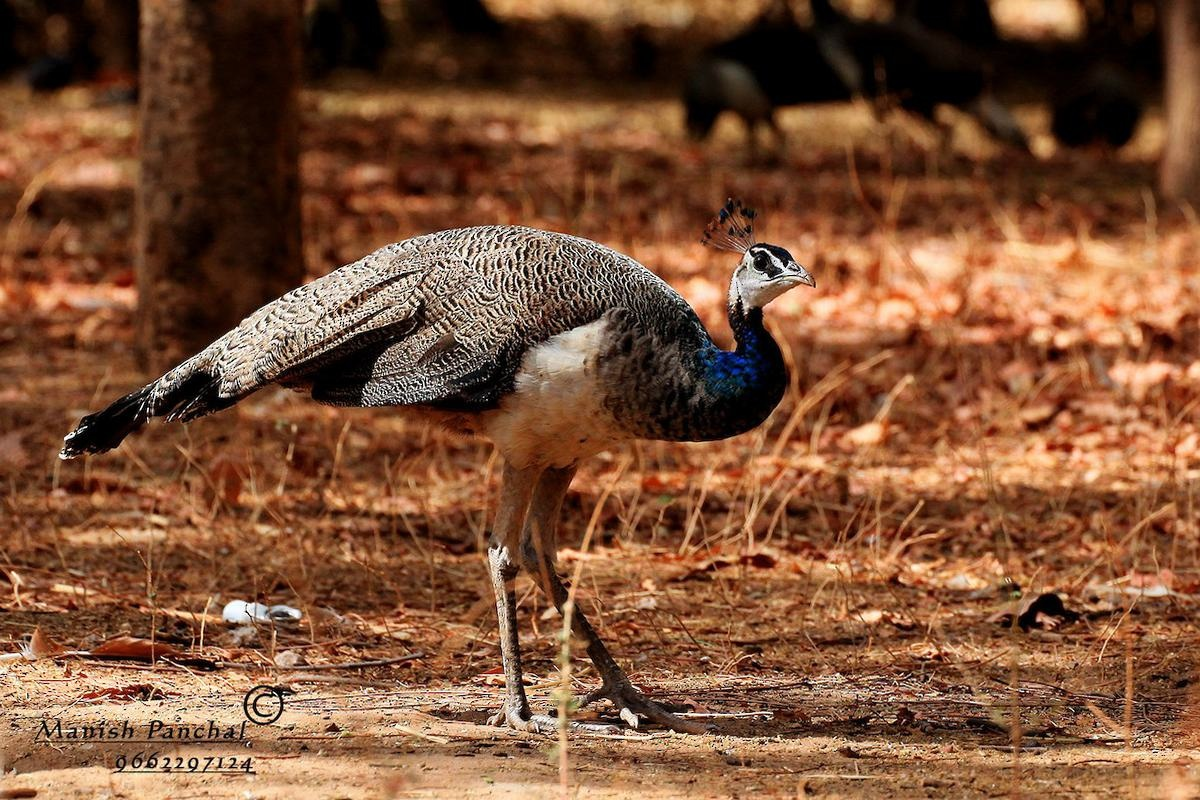peacock: (185, 192, 844, 564)
